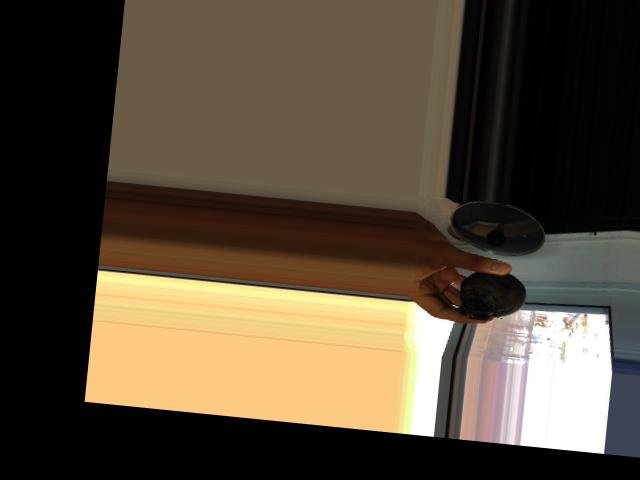beet: (438, 266, 528, 324)
